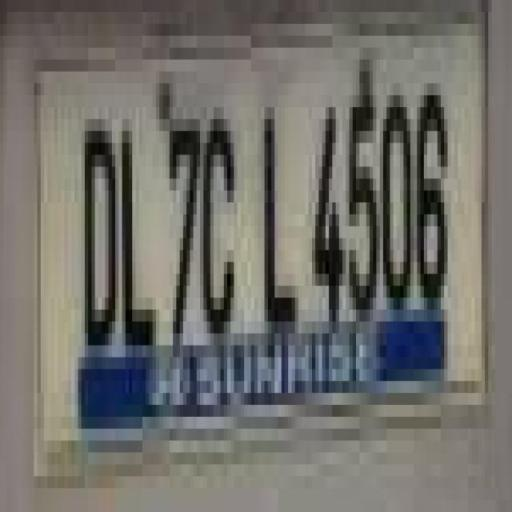number plate: (6, 12, 484, 429)
